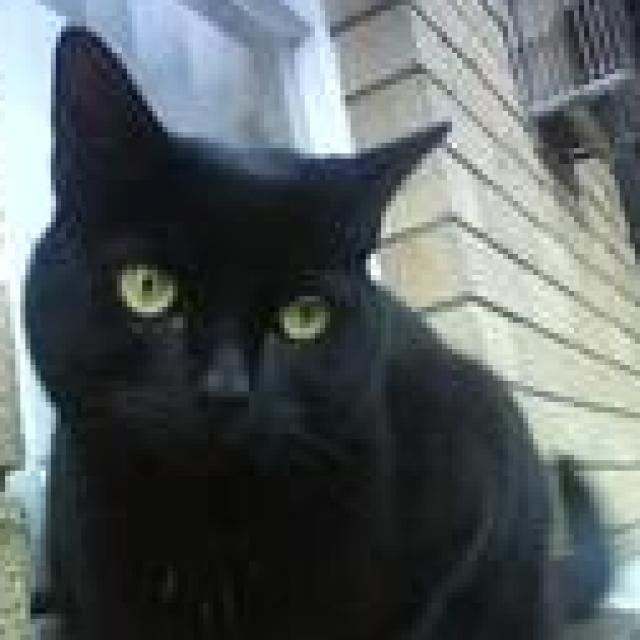Bombay: (20, 16, 615, 640)
